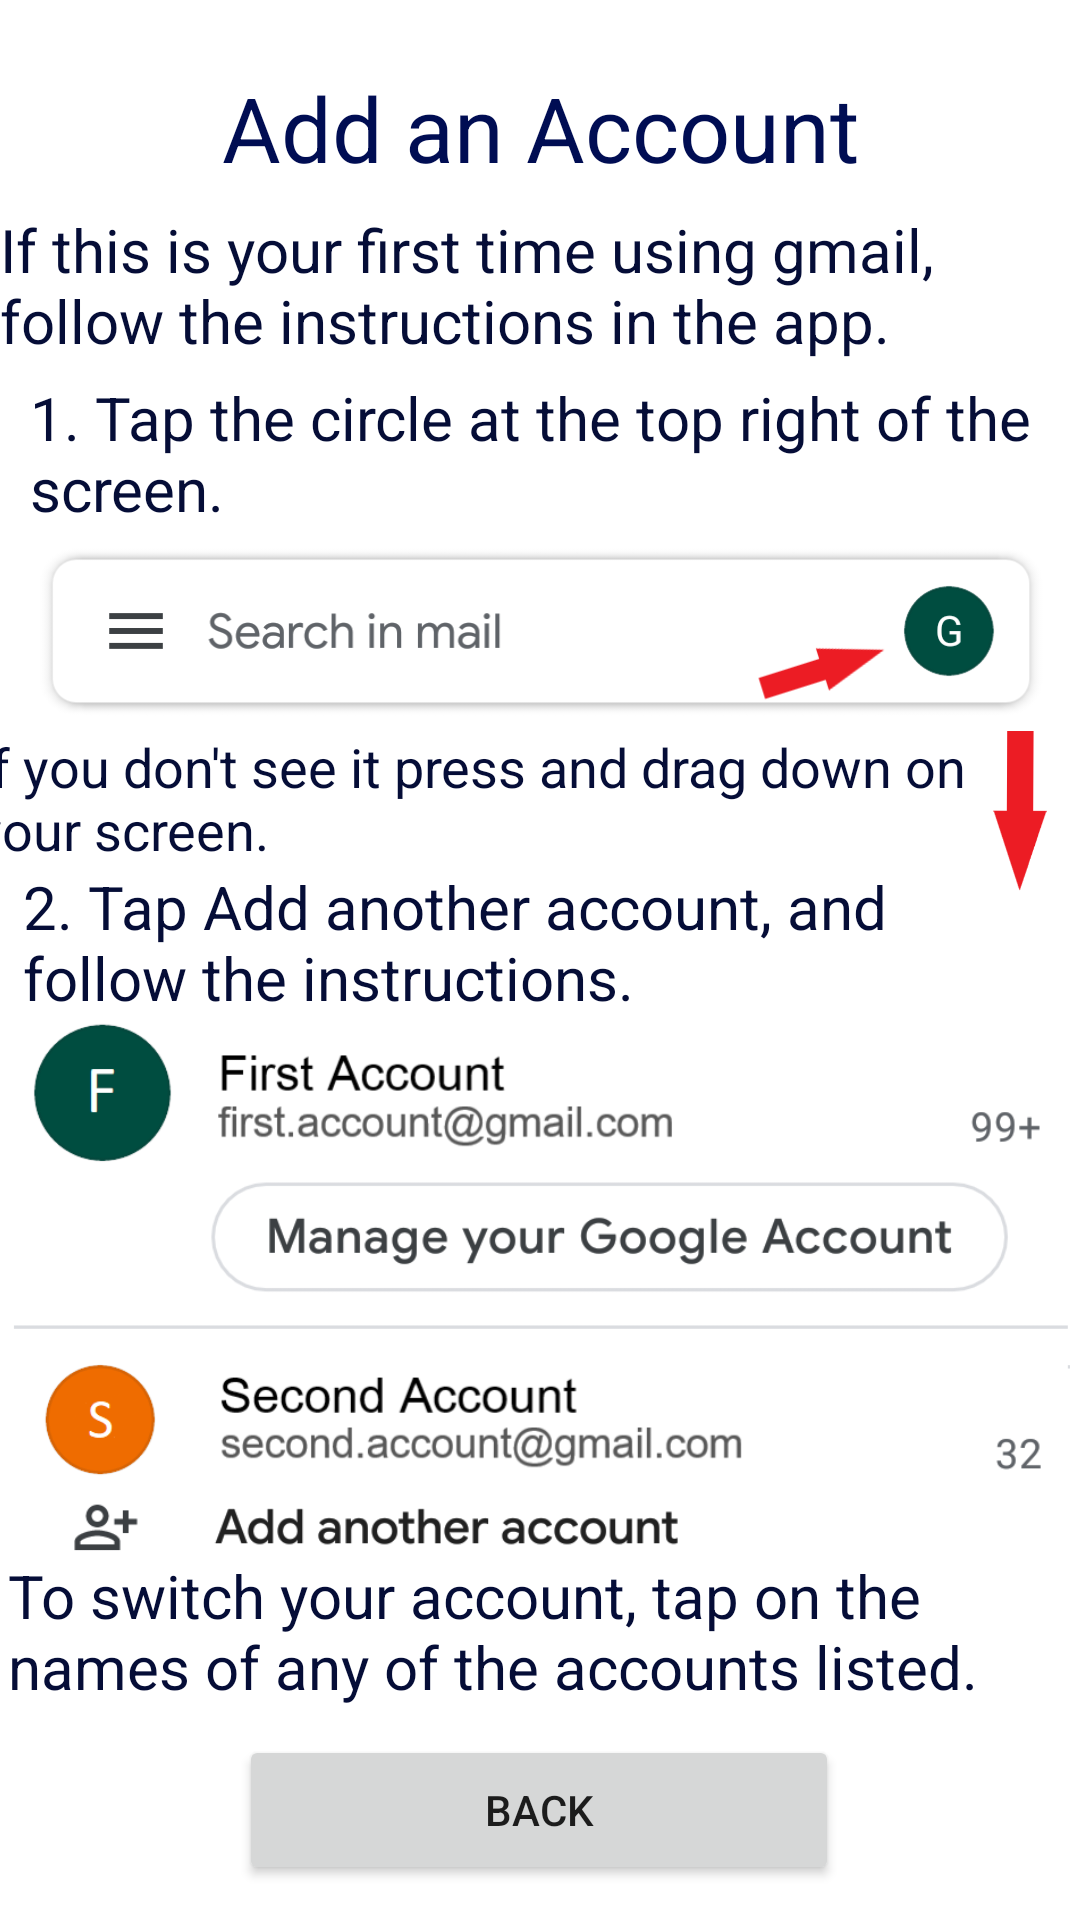

Named icons in this screenshot (1080px x 1920px) and their centers, point (x, y):
down arrow: point (1020, 810)
